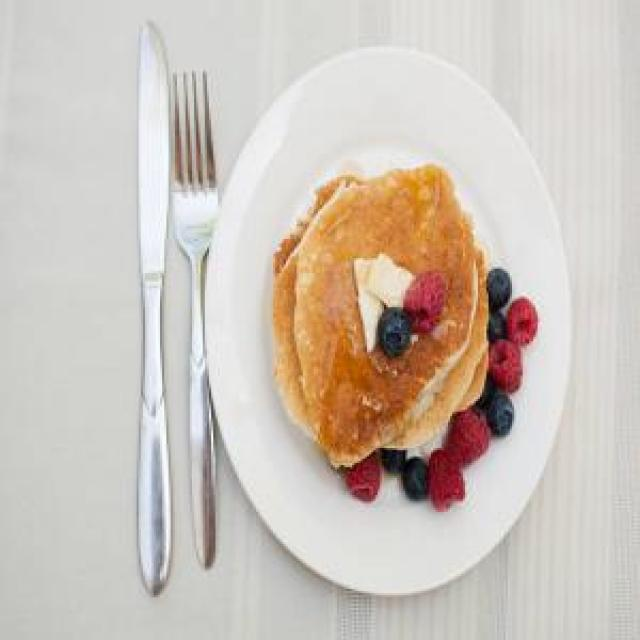knife: (136, 23, 173, 591)
